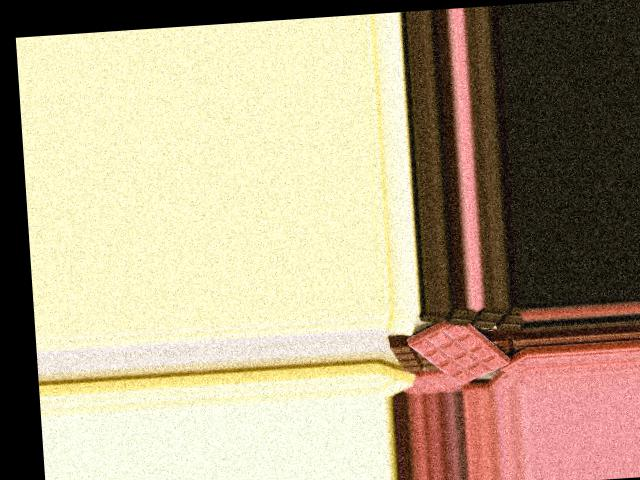chocolate: (407, 304, 512, 390)
